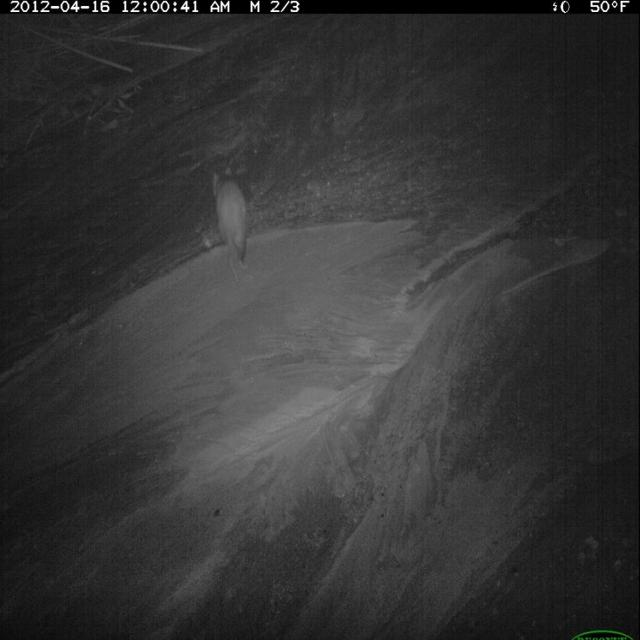opossum: (209, 162, 252, 285)
